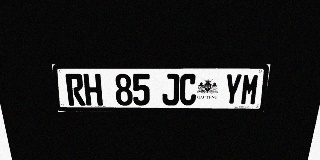5: (132, 74, 150, 105)
8: (114, 74, 133, 105)
C: (179, 74, 197, 105)
H: (83, 74, 103, 106)
J: (162, 74, 179, 105)
M: (240, 74, 260, 105)
R: (65, 74, 86, 106)
Y: (223, 74, 243, 105)
